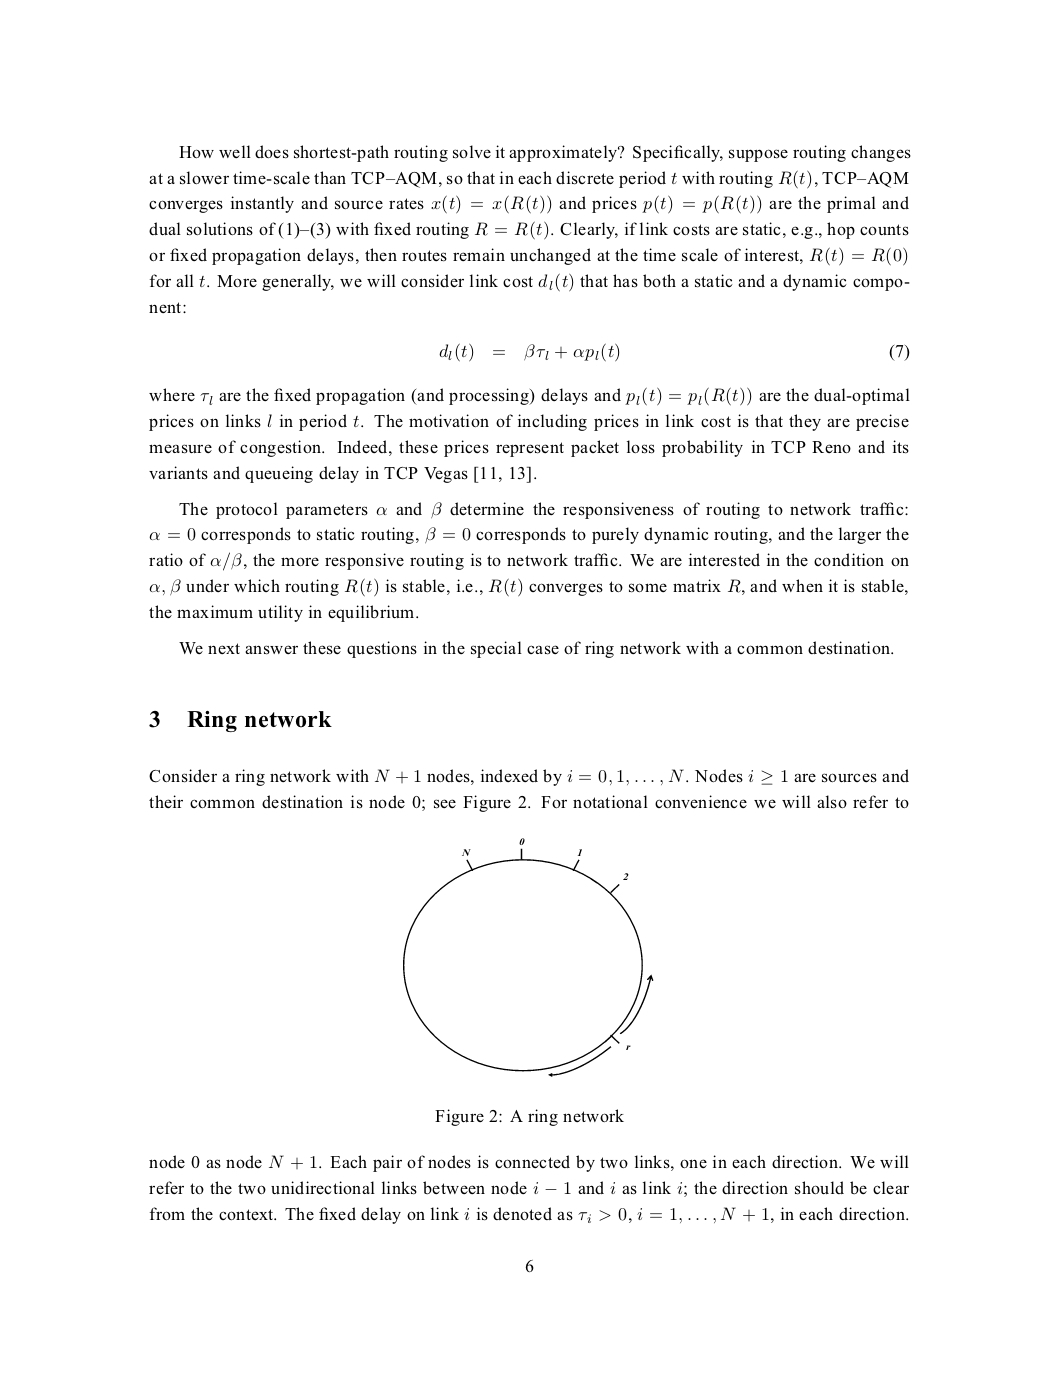figure: (403, 838, 653, 1077)
formula: (439, 342, 909, 362)
